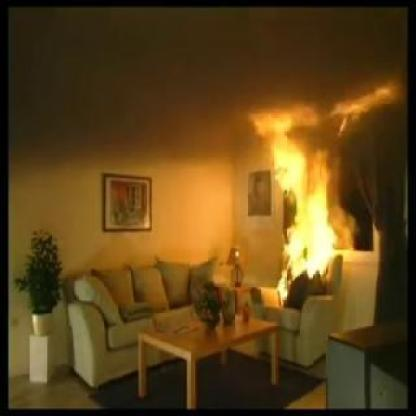Fire: (269, 141, 346, 304), (250, 84, 394, 137)
